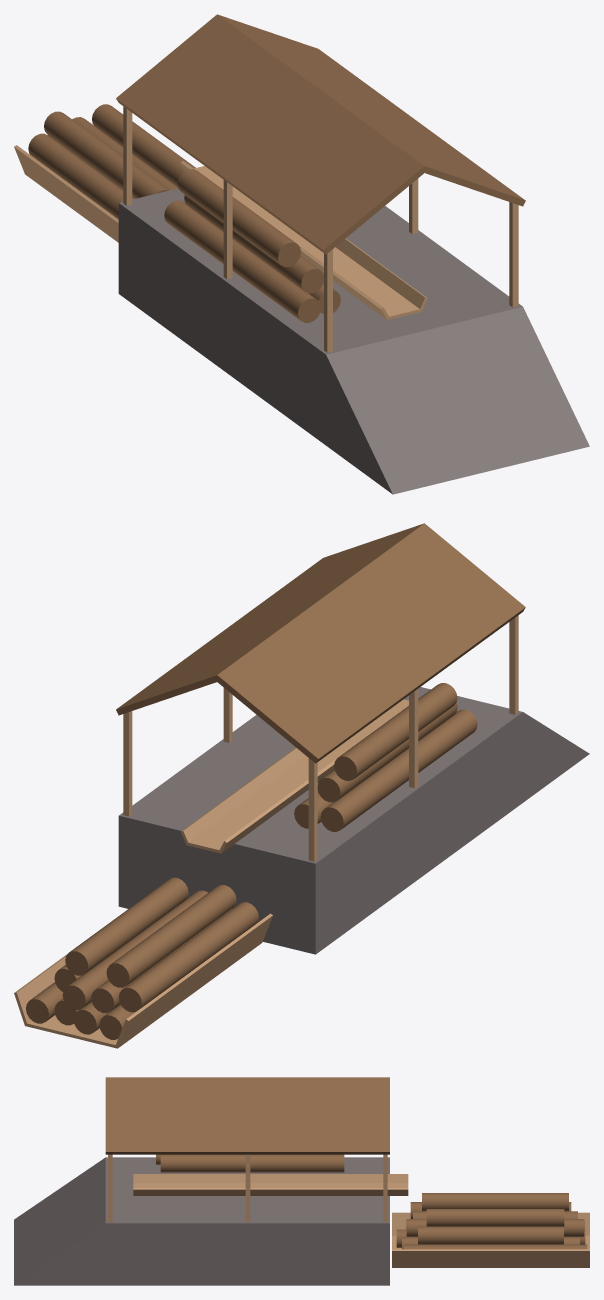
The model's file is SM_Lumbermill_01.fbx.
3 views of the same model, one above another, from view 1: azimuth 30°, elevation 25°; view 2: azimuth 150°, elevation 25°; view 3: azimuth 270°, elevation 25° (orthographic). The views are drawn at different scales.
Visible parts, largest first — view 1: Cube.001, SM_Lumbermill_01, Plane, Cylinder.002, Cube, Cylinder.004, Cylinder.013, Cylinder.011, Cylinder.014, Plane.001, Cylinder.003, Cylinder.012; view 2: Cube.001, SM_Lumbermill_01, Plane, Plane.001, Cylinder.002, Cube, Cylinder.011, Cylinder.013, Cylinder.014, Cylinder.004, Cylinder.012, Cylinder.003 (+4 smaller); view 3: Cube.001, SM_Lumbermill_01, Plane, Plane.001, Cylinder.001, Cylinder.007, Cylinder.014, Cylinder.013, Cylinder.005, Cube, Cylinder.012.
Part boxes in pixels (bbox=[...]): Cube.001: bbox=[118, 188, 589, 494]; SM_Lumbermill_01: bbox=[116, 14, 525, 254]; Plane: bbox=[181, 161, 427, 320]; Cylinder.002: bbox=[164, 200, 320, 322]; Cube: bbox=[123, 106, 518, 352]; Cylinder.004: bbox=[177, 169, 300, 266]; Cylinder.013: bbox=[44, 111, 168, 198]; Cylinder.011: bbox=[28, 133, 134, 219]; Cylinder.014: bbox=[92, 104, 195, 187]; Plane.001: bbox=[14, 145, 118, 242]; Cylinder.003: bbox=[184, 195, 323, 293]; Cylinder.012: bbox=[72, 117, 177, 190]; Cube.001: bbox=[118, 687, 589, 954]; SM_Lumbermill_01: bbox=[116, 523, 525, 763]; Plane: bbox=[181, 699, 408, 853]; Plane.001: bbox=[14, 913, 272, 1048]; Cylinder.002: bbox=[320, 709, 477, 831]; Cube: bbox=[123, 615, 518, 861]; Cylinder.011: bbox=[118, 902, 258, 1012]; Cylinder.013: bbox=[106, 885, 236, 987]; Cylinder.014: bbox=[65, 877, 188, 975]; Cylinder.004: bbox=[334, 683, 457, 780]; Cylinder.012: bbox=[62, 890, 207, 1009]; Cylinder.003: bbox=[317, 702, 457, 802]; Cube.001: bbox=[14, 1157, 389, 1285]; SM_Lumbermill_01: bbox=[105, 1077, 389, 1154]; Plane: bbox=[133, 1174, 408, 1195]; Plane.001: bbox=[392, 1212, 589, 1267]; Cylinder.001: bbox=[160, 1154, 344, 1172]; Cylinder.007: bbox=[418, 1226, 563, 1244]; Cylinder.014: bbox=[426, 1209, 564, 1226]; Cylinder.013: bbox=[422, 1193, 568, 1211]; Cylinder.005: bbox=[403, 1244, 587, 1249]; Cube: bbox=[108, 1154, 387, 1222]; Cylinder.012: bbox=[406, 1219, 584, 1237].
Bounding box in the file's own units: 350 × 421 × 1256.
